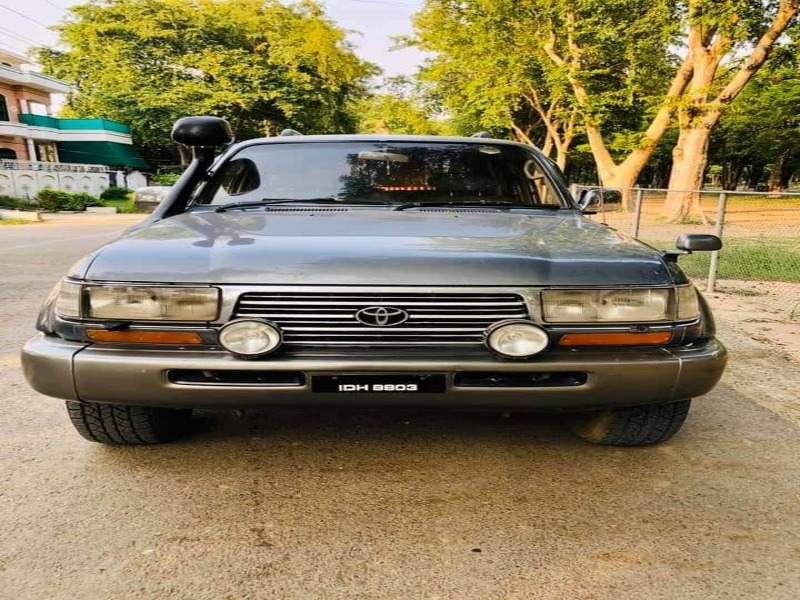License Plate: (309, 369, 451, 400)
